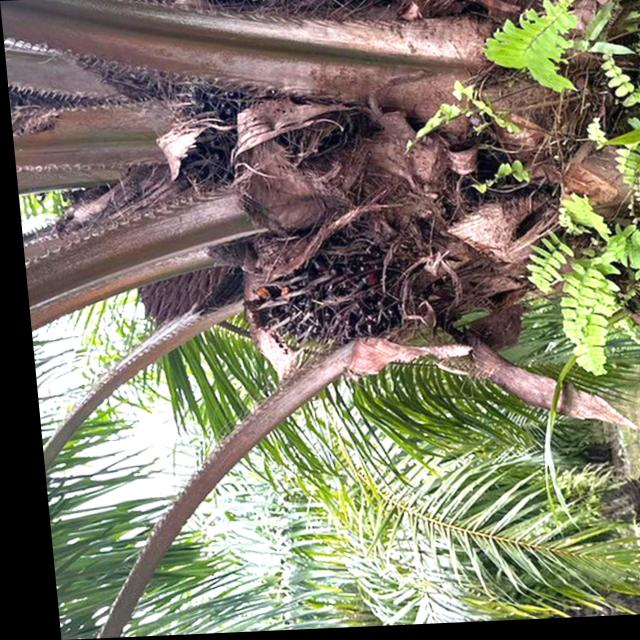ripe: (235, 241, 404, 352)
